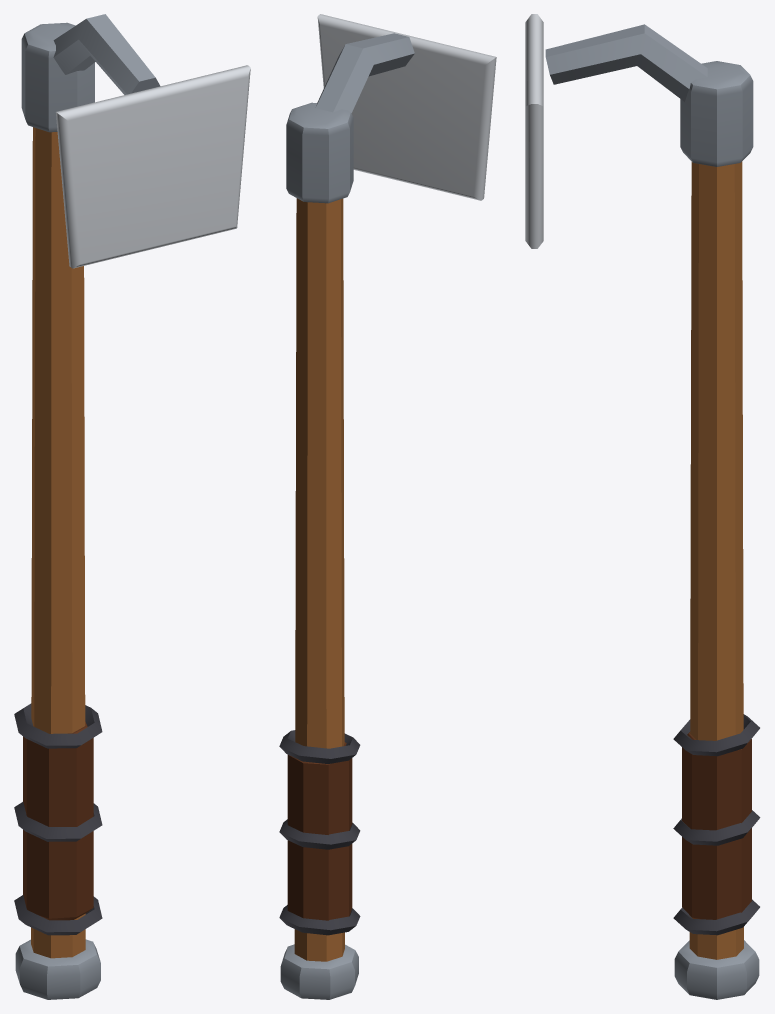
The model's file is IronHoe.fbx.
The picture shows the model from 3 angles, left to right: view 1: azimuth 30°, elevation 25°; view 2: azimuth 150°, elevation 25°; view 3: azimuth 270°, elevation 25°; orthographic projection. The views are drawn at different scales.
Visible parts, largest first — view 1: IronHoe; view 2: IronHoe; view 3: IronHoe.
Boxes of the visible parts, x1=… form: IronHoe: x1=14, y1=14, x2=250, y2=999; IronHoe: x1=279, y1=14, x2=496, y2=999; IronHoe: x1=525, y1=14, x2=760, y2=999.
Bounding box in the file's own units: 0.7 × 3.48 × 0.7736.
1 material, 1 textured.
